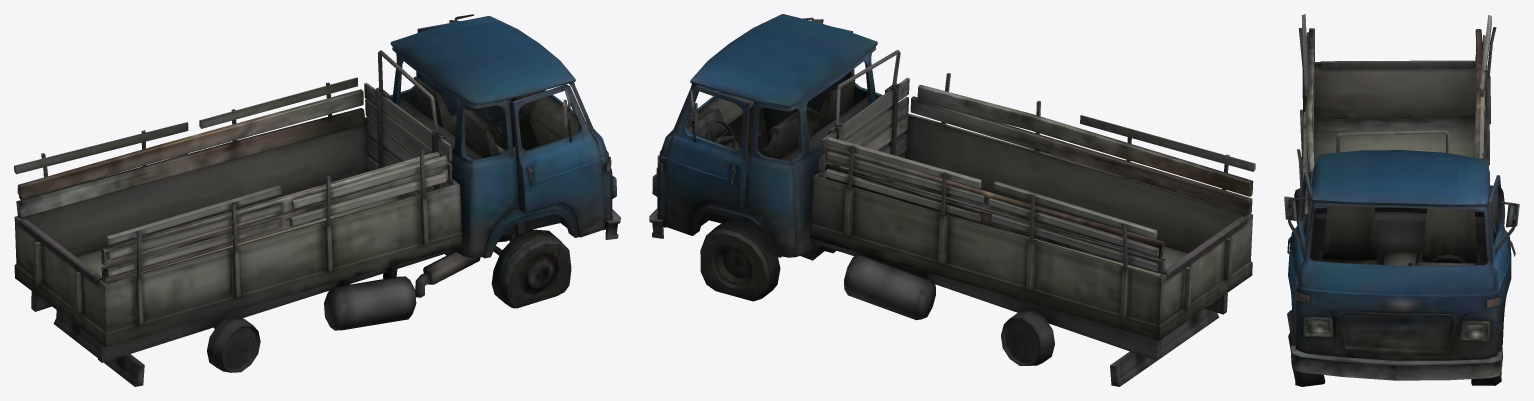
The model's file is truck001a.glb.
3 renders of one model, left to right at view 1: azimuth 30°, elevation 25°; view 2: azimuth 150°, elevation 25°; view 3: azimuth 270°, elevation 25°, orthographic. The views are drawn at different scales.
Visible parts, largest first — view 1: 0_truck001c_01; view 2: 0_truck001c_01; view 3: 0_truck001c_01.
Boxes of the visible parts, <box> form: 0_truck001c_01: <box>14,14,620,386</box>; 0_truck001c_01: <box>649,14,1255,386</box>; 0_truck001c_01: <box>1284,14,1519,386</box>.
Bounding box in the file's own units: 6.18 × 2.45 × 2.47.
1 material, 1 textured.
